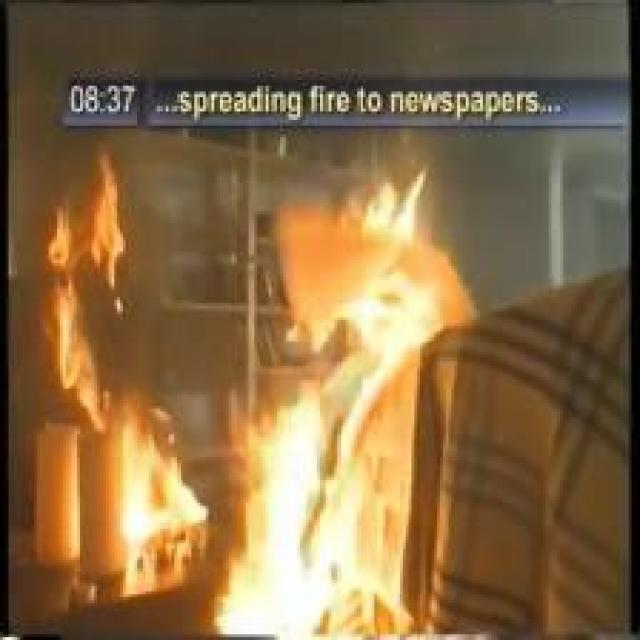Fire: (214, 377, 334, 634), (46, 207, 111, 433), (118, 396, 212, 542), (90, 147, 127, 287), (392, 170, 428, 239), (362, 170, 394, 233)
